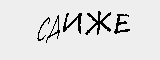Д: (44, 15, 61, 41)
Е: (115, 12, 134, 34)
Ж: (84, 10, 112, 34)
И: (61, 10, 83, 36)
С: (30, 15, 51, 41)
